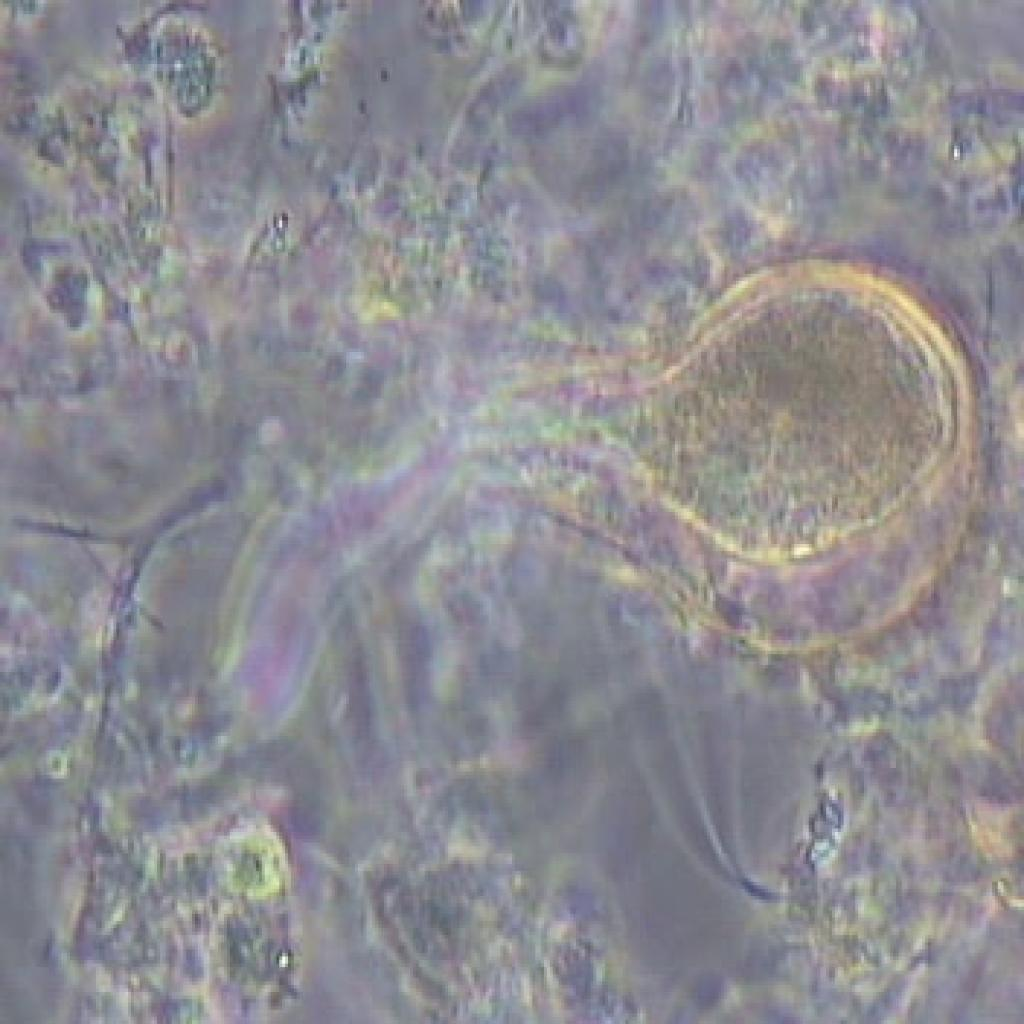Chaetopira: (472, 233, 952, 649)
